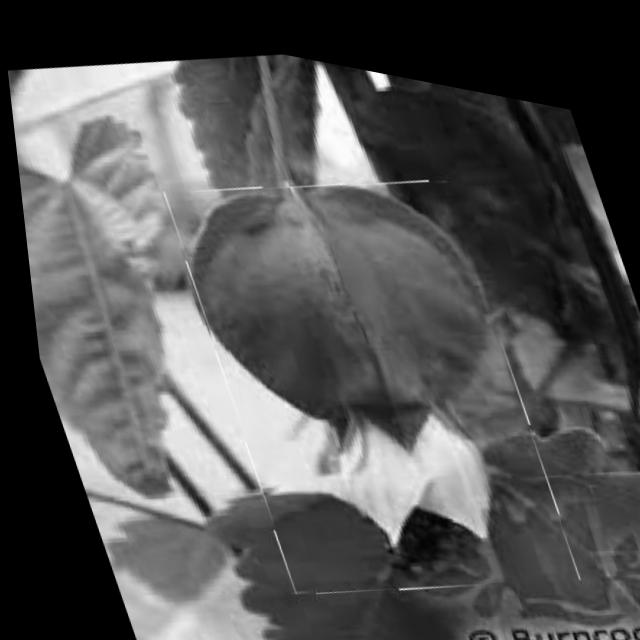Flower: (149, 114, 579, 633)
